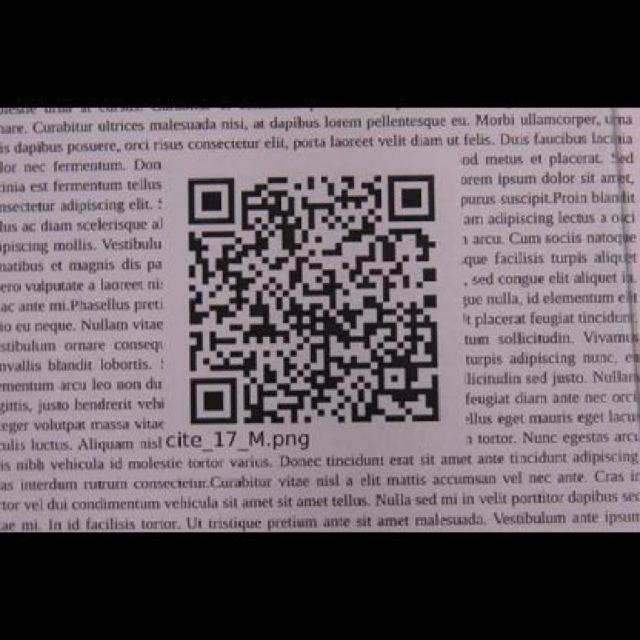QRCode: (184, 170, 447, 430)
